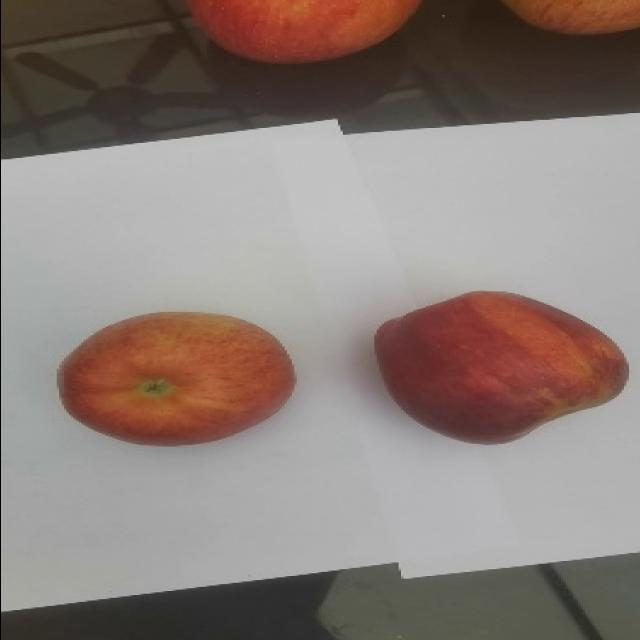Apple: (373, 289, 629, 444), (56, 310, 296, 446), (185, 0, 423, 64), (499, 0, 639, 35)
